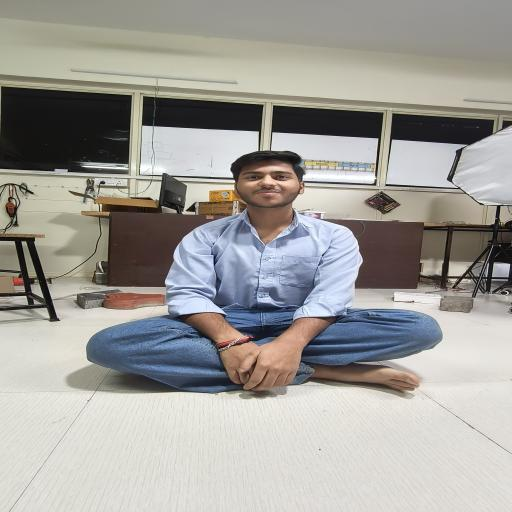survivor: (86, 150, 444, 394)
